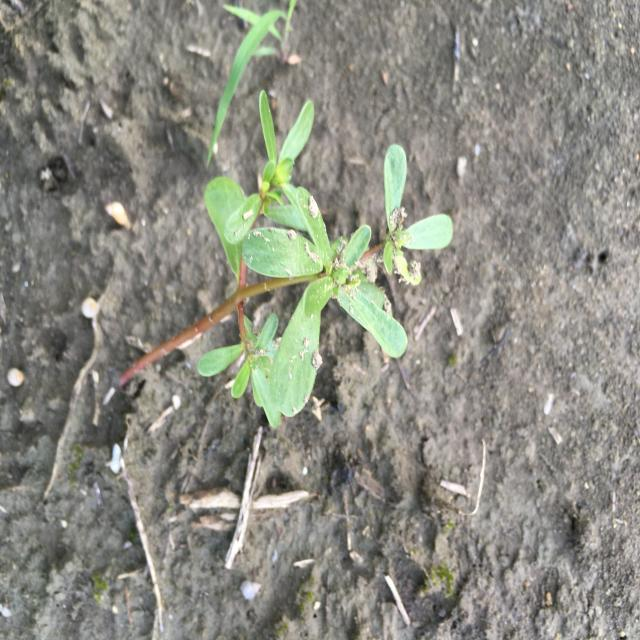Purslane: (117, 87, 455, 432)
